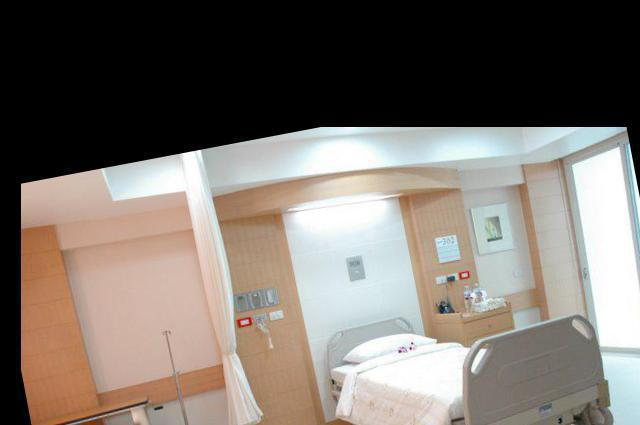Otro Obstaculo: (132, 316, 236, 425)
Puerta: (562, 153, 640, 359)
